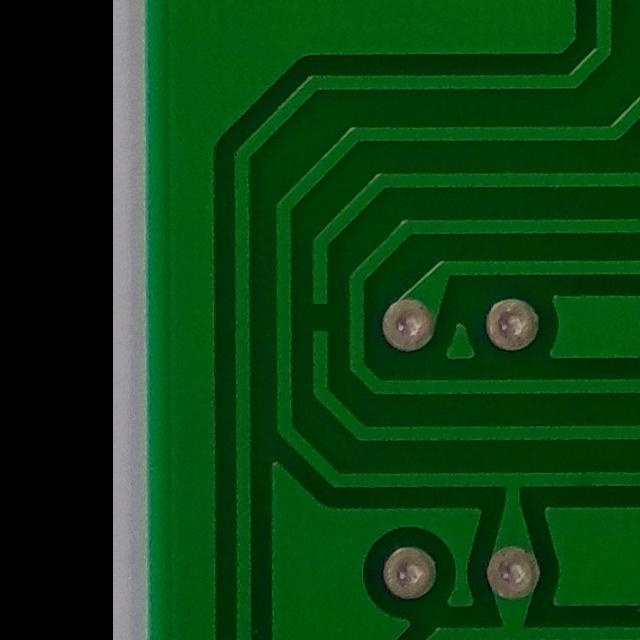open_circuit: (302, 289, 338, 352)
